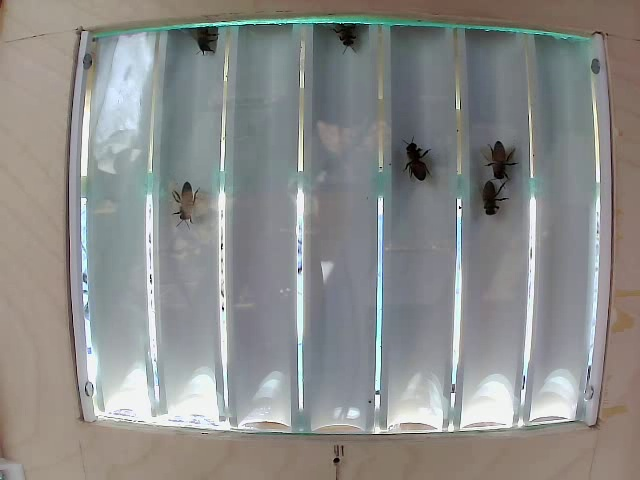bee: (391, 133, 439, 200), (169, 170, 212, 242), (479, 130, 526, 188), (471, 165, 508, 227)
